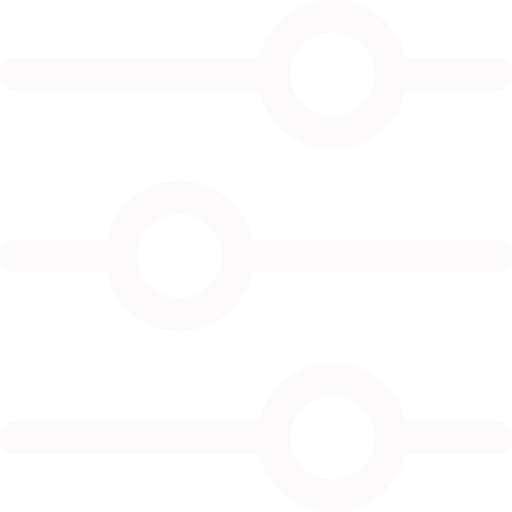

What the dashboard file says about the page in this screenshot:
{"tool":"powerbi","page":{"name":"Page 3","canvas":[1280,720],"ordinal":2},"visuals":[{"type":"shape","box":[640.7,169.9,491.9,289.6],"z":0,"group":"g1"},{"type":"slicer","fields":{"Values":["Space Mission.Location"]},"box":[886.6,200.6,245.9,76],"z":1000,"group":"g1"},{"type":"slicer","fields":{"Values":["Space Mission.Mission"]},"box":[886.6,276.7,245.9,76],"z":2000,"group":"g1"},{"type":"slicer","fields":{"Values":["Space Mission.RocketStatus"]},"box":[886.6,356,245.9,76],"z":3000,"group":"g1"},{"type":"slicer","fields":{"Values":["Space Mission.MissionStatus"]},"box":[640.7,357.6,245.9,76],"z":4000,"group":"g1"},{"type":"slicer","fields":{"Values":["Space Mission.Company"]},"box":[640.7,276.7,245.9,76],"z":5000,"group":"g1"},{"type":"slicer","fields":{"Values":["Date Table.Year"]},"box":[640.7,200.6,245.9,76],"z":6000,"group":"g1"},{"type":"group","id":"g1","title":"Group 1","box":[640.7,169.9,491.9,289.6],"z":6002},{"type":"shape","box":[1056.5,179.6,61.5,42.1],"z":7000,"group":"g1"}]}

Visuals, with their boxes on the page's 1280x720 design canvas (x1, y1, x2, y2). These are canvas units, not pixel positions in the 512x512 screenshot, which may show the page scaled, cropped or inside an application window:
shape: <box>641,170,1133,460</box>
slicer - Space Mission.Location: <box>887,201,1132,277</box>
slicer - Space Mission.Mission: <box>887,277,1132,353</box>
slicer - Space Mission.RocketStatus: <box>887,356,1132,432</box>
slicer - Space Mission.MissionStatus: <box>641,358,887,434</box>
slicer - Space Mission.Company: <box>641,277,887,353</box>
slicer - Date Table.Year: <box>641,201,887,277</box>
"Group 1" group: <box>641,170,1133,460</box>
shape: <box>1056,180,1118,222</box>
